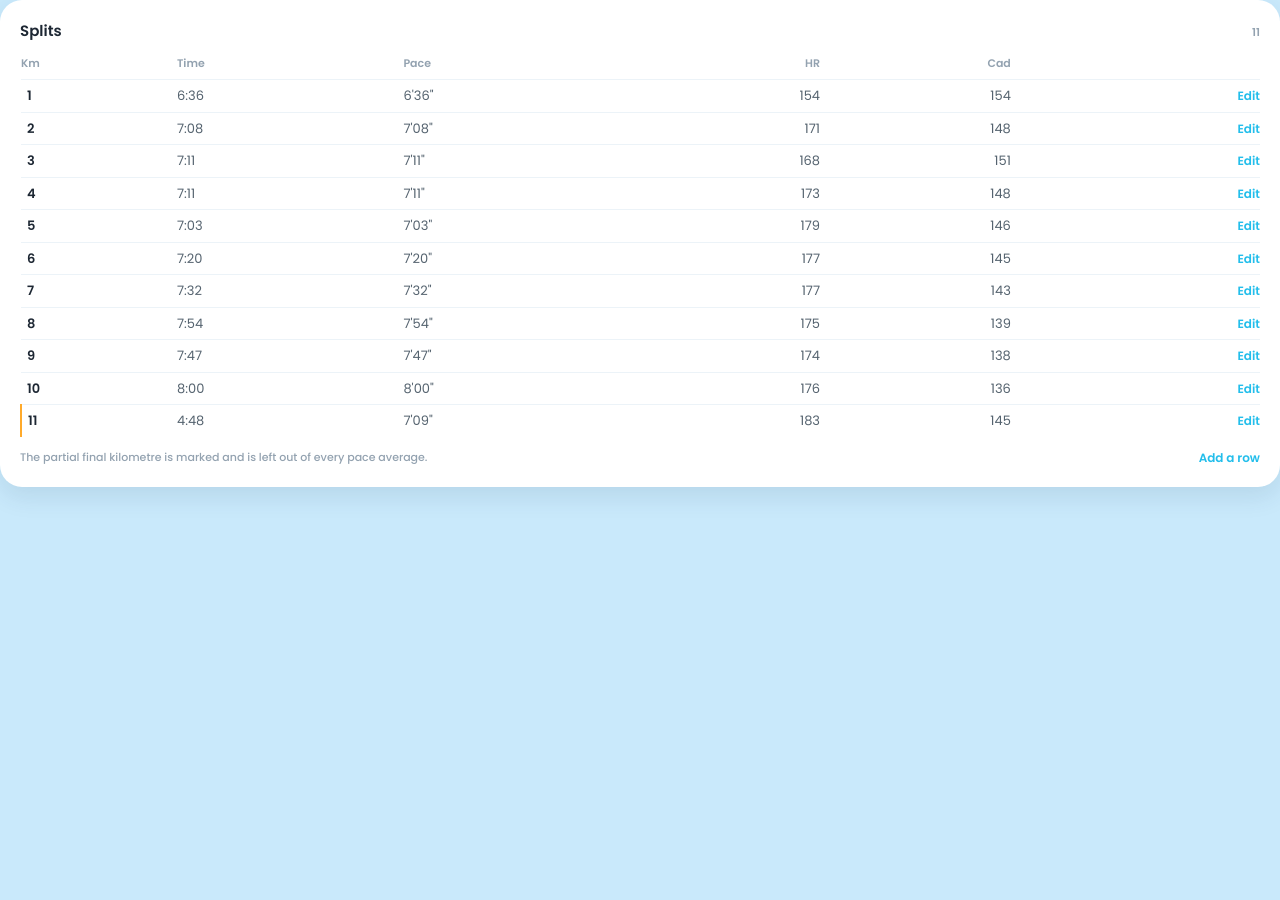
Test case: SplitsTable — the row sheet › a path-scoped server error renders under its own sheet field
Click the button with aria-label "Edit kilometre 11": (1249, 421) [1238,412,1260,430]
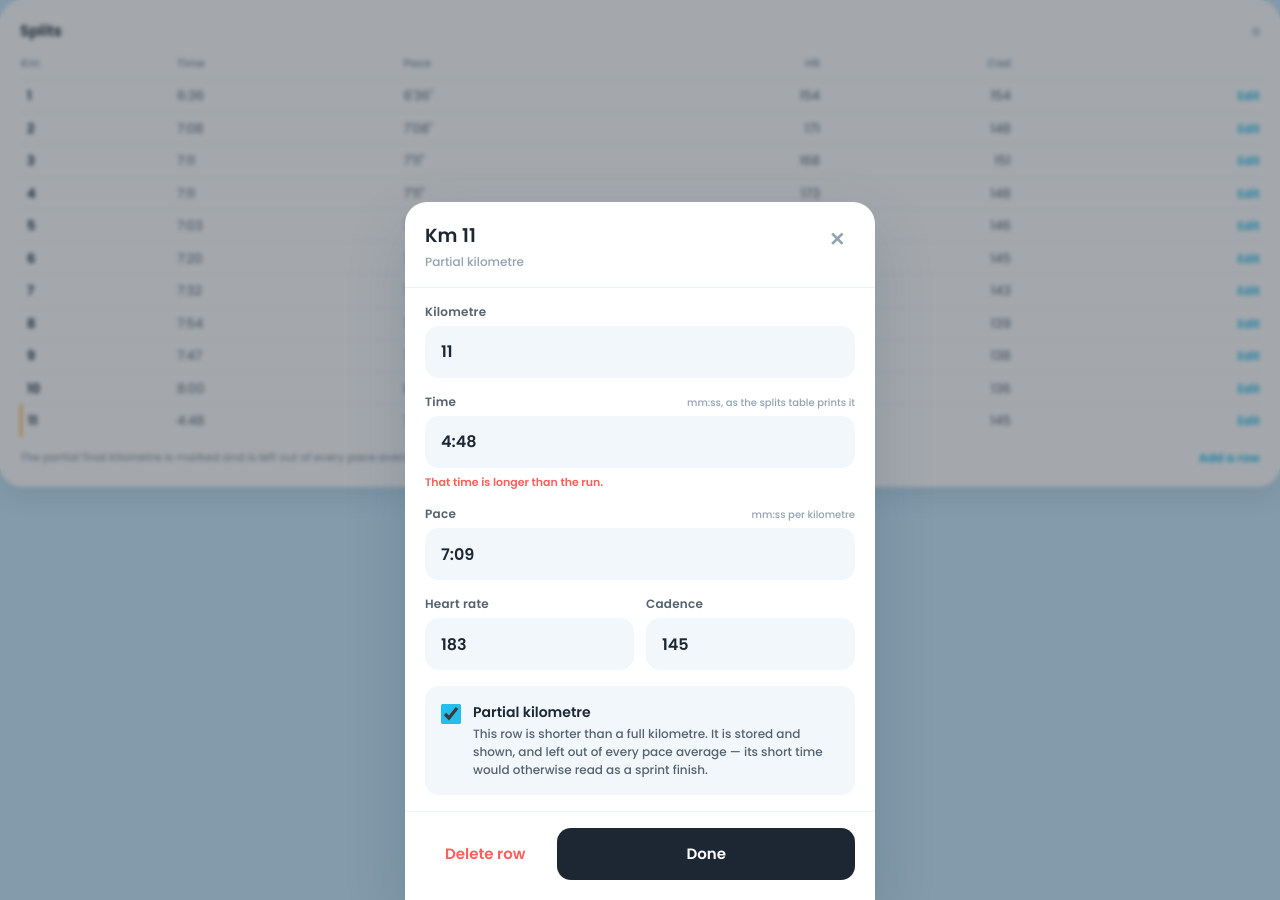
Expected: the text "That time is longer than the run." is shown, [425,474,603,490]
